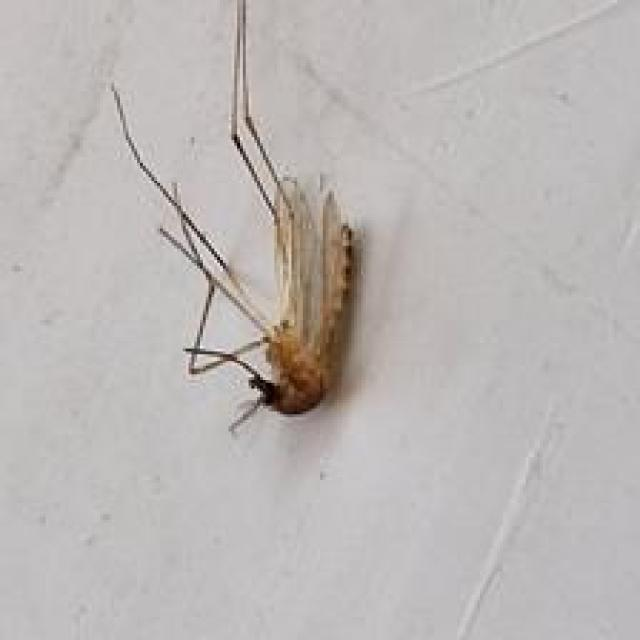Culex: (110, 0, 359, 437)
